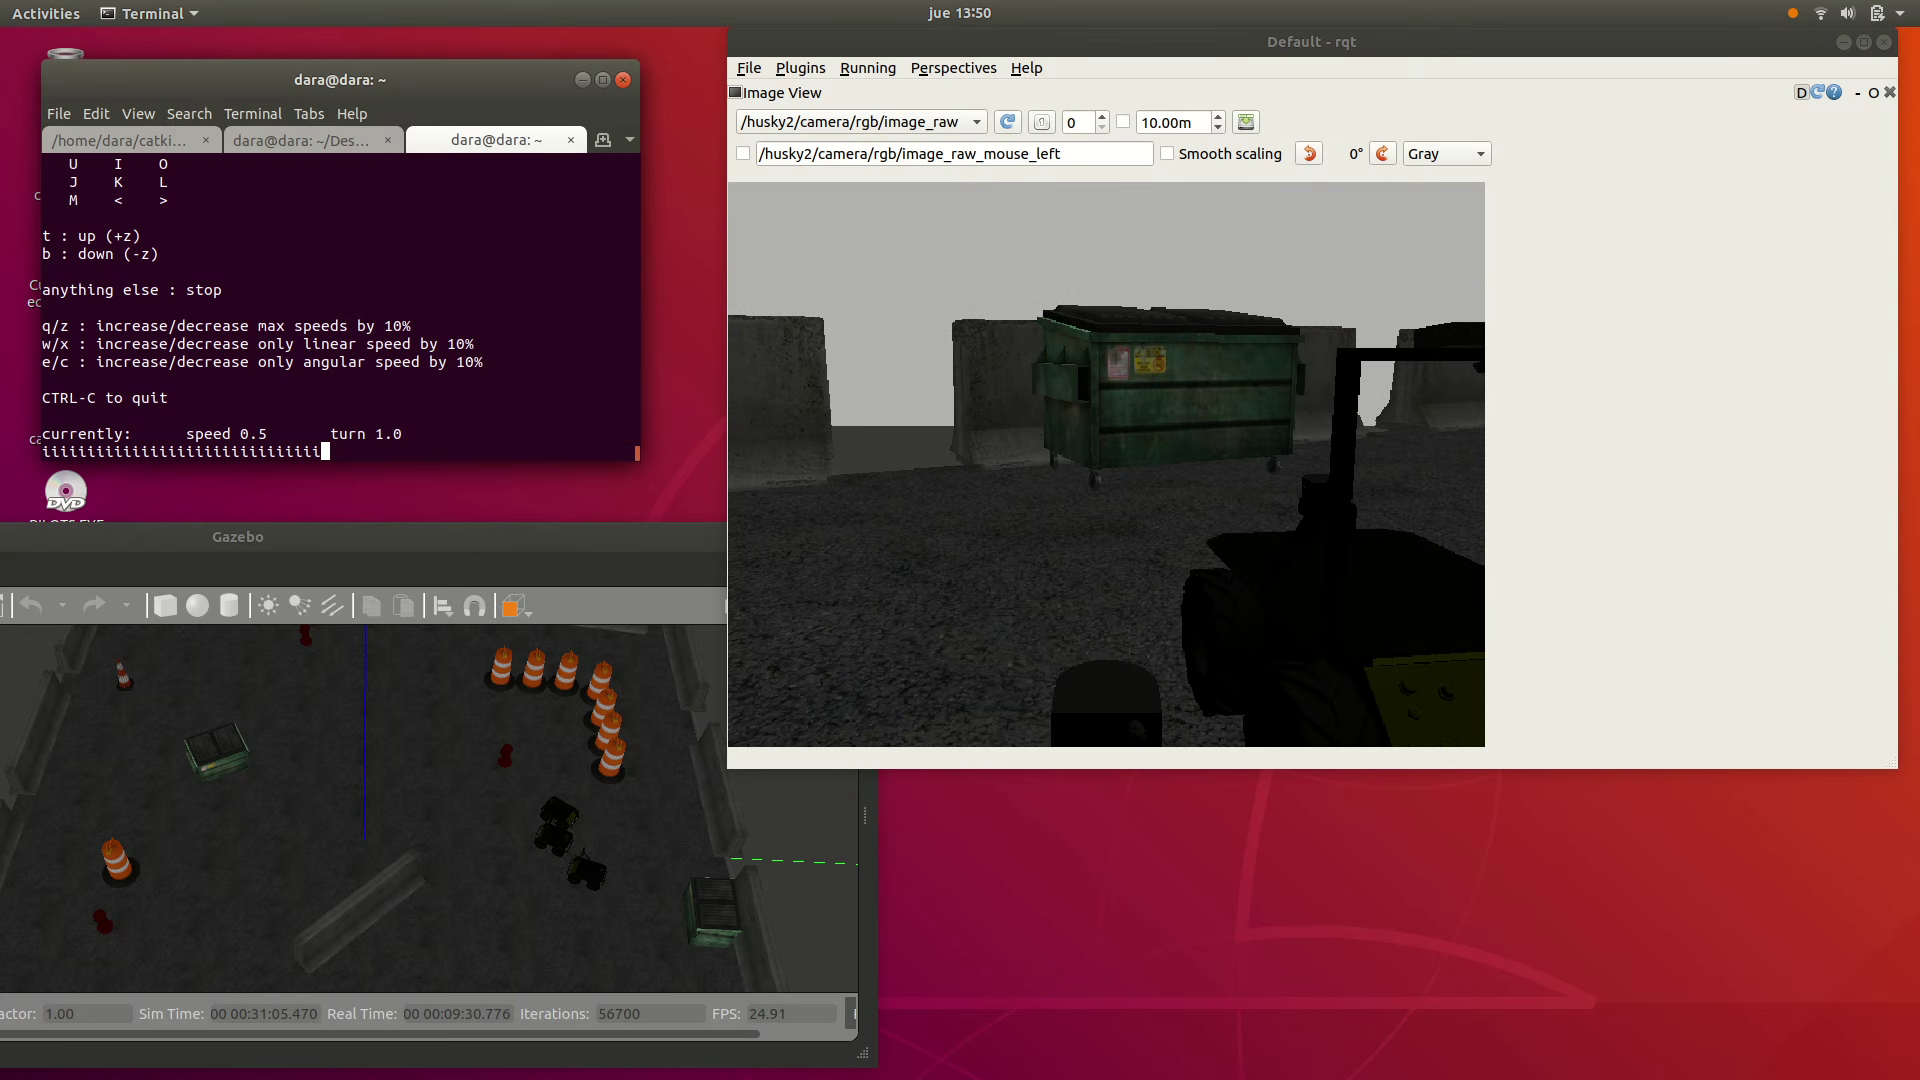husky: (1182, 530, 1484, 745), (540, 797, 580, 831), (566, 857, 607, 890), (535, 825, 574, 856)
